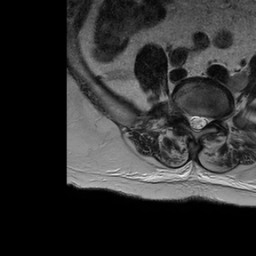CCS_normal: (194, 110, 200, 136)
LFS_severe_stenosis: (209, 112, 217, 126)
LLS_normal: (200, 111, 208, 130)
RFS_normal: (179, 103, 187, 120)
RLS_normal: (187, 108, 193, 130)
